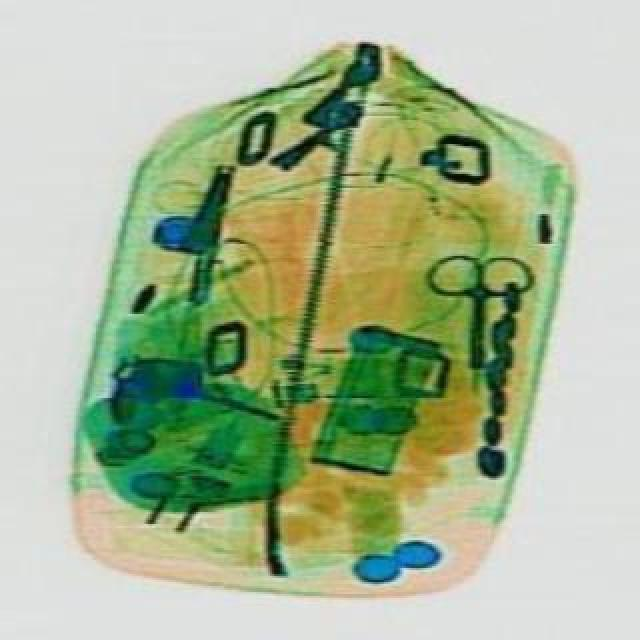pliers: (428, 252, 542, 368)
